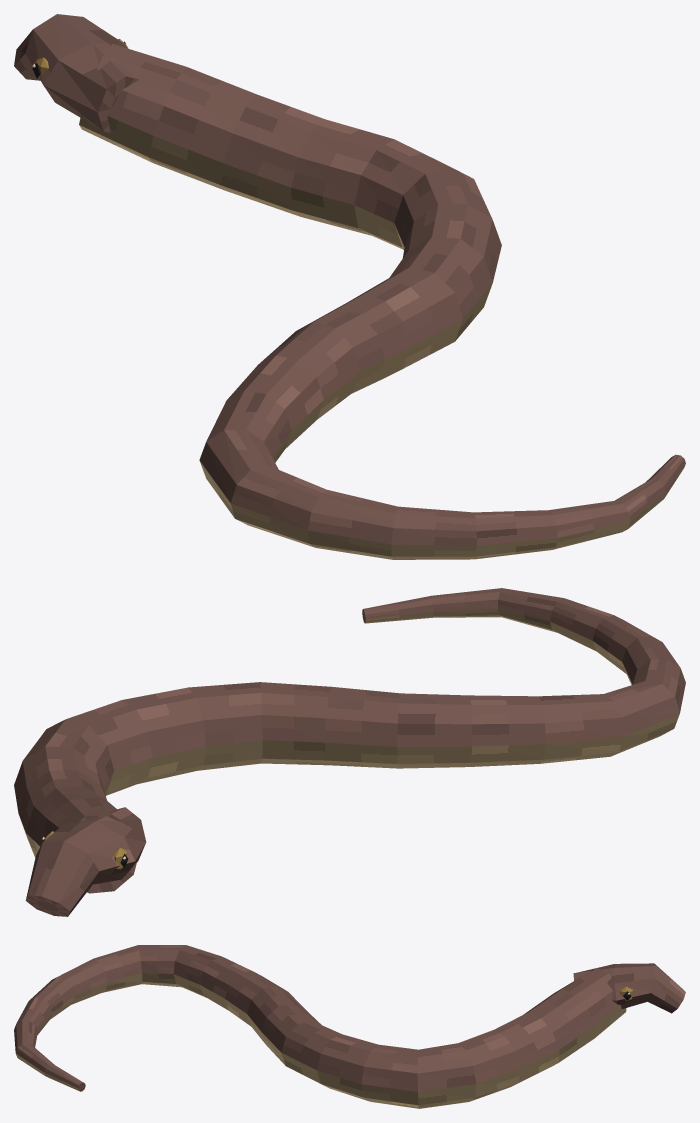
Rendered from mon_wormsnake_baby.glb.
3 views of the same model, one above another, from view 1: azimuth 30°, elevation 25°; view 2: azimuth 150°, elevation 25°; view 3: azimuth 270°, elevation 25° (orthographic). The views are drawn at different scales.
Parts seen in each view (by area): view 1: closed_body; view 2: closed_body; view 3: closed_body.
Part boxes in pixels (x1,y1,x2,y2): closed_body: (14,14,685,559); closed_body: (14,588,685,916); closed_body: (14,945,685,1108).
Bounding box in the file's own units: 0.0834 × 0.0234 × 0.1668.
1 material, 1 textured.
